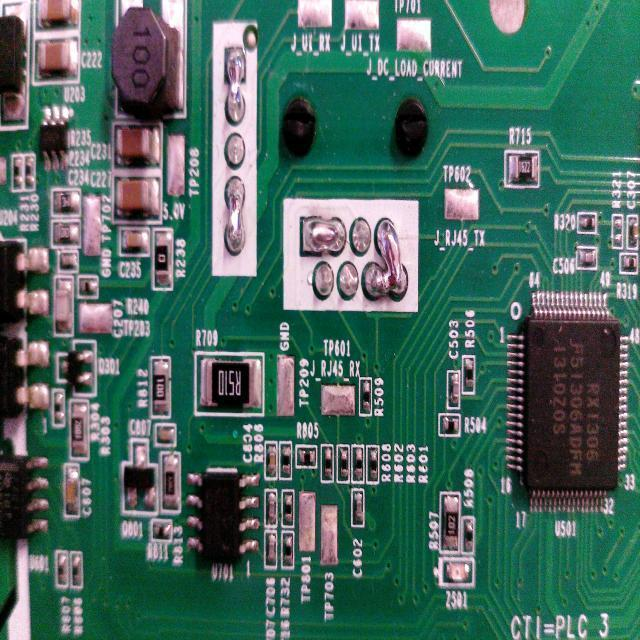Soldering shorted: (366, 212, 410, 306), (300, 210, 346, 258), (226, 173, 246, 257), (226, 46, 246, 124)
